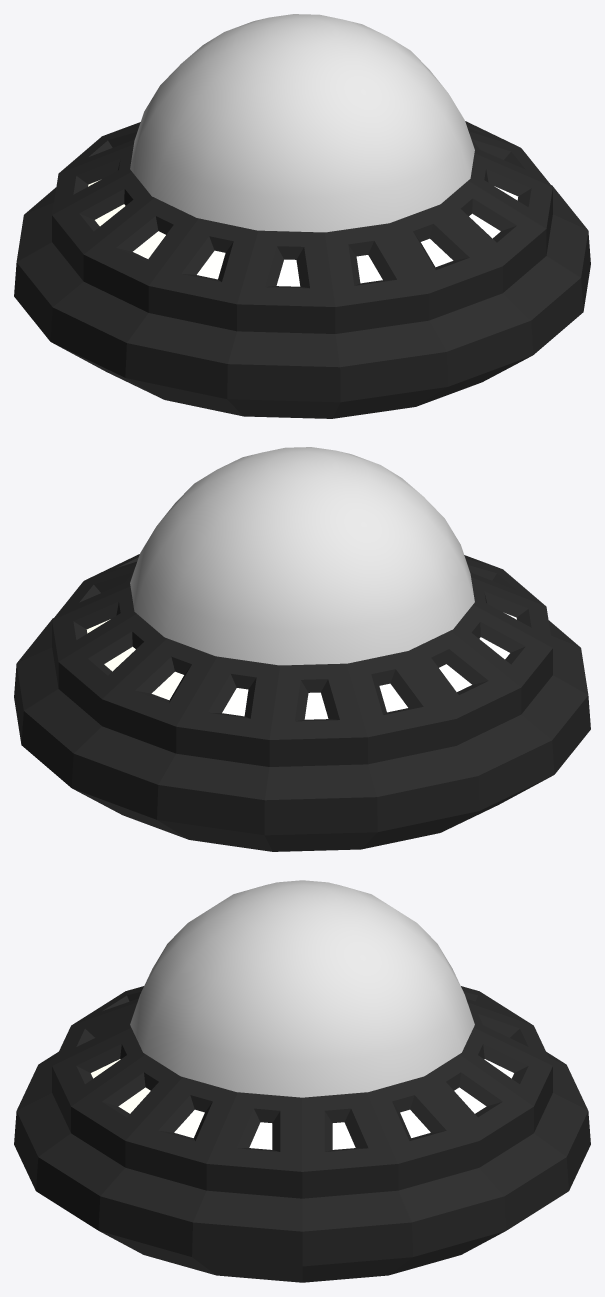
Rendered from ufo.fbx.
3 renders of one model, top to bottom at view 1: azimuth 30°, elevation 25°; view 2: azimuth 150°, elevation 25°; view 3: azimuth 270°, elevation 25°, orthographic.
Parts seen in each view (by area): view 1: ufo; view 2: ufo; view 3: ufo.
Part boxes in pixels (x1=…): ufo: x1=14, y1=14, x2=590, y2=418; ufo: x1=14, y1=447, x2=590, y2=851; ufo: x1=14, y1=880, x2=590, y2=1282.
Size of the model in its own units: 170 by 94.64 by 170.
